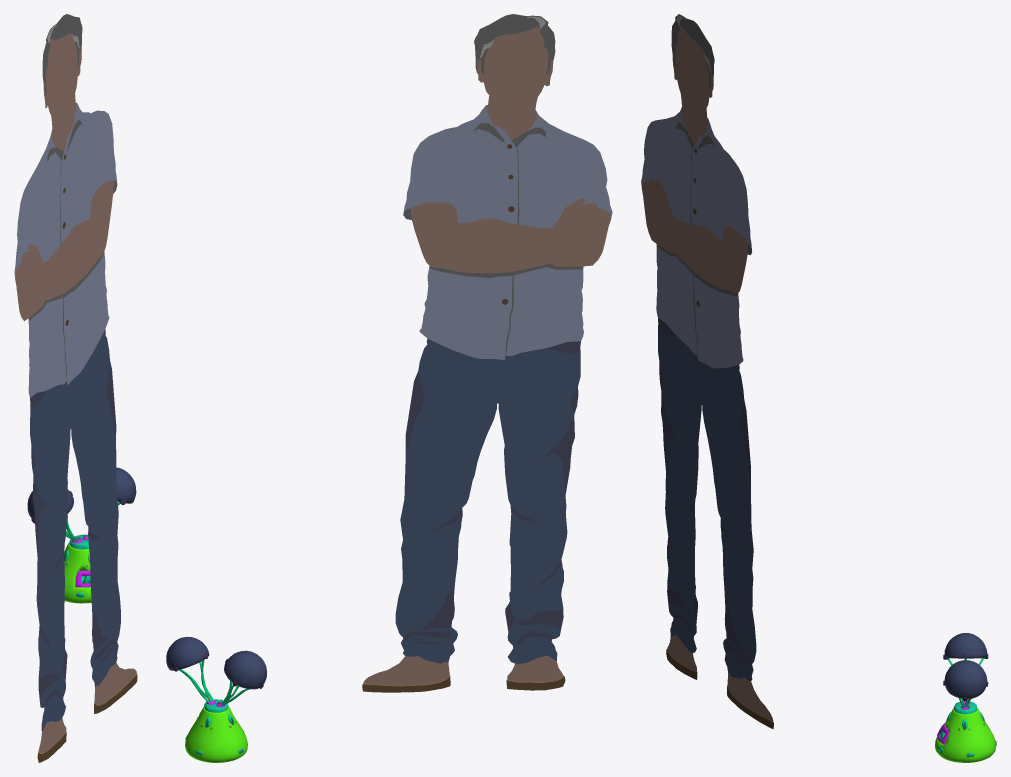
Rendered from Capsul.obj.
The picture shows the model from 3 angles, left to right: view 1: azimuth 30°, elevation 25°; view 2: azimuth 150°, elevation 25°; view 3: azimuth 270°, elevation 25°; orthographic projection. The views are drawn at different scales.
Visible parts, largest first — view 1: Mesh1 Niraj1 Model, Mesh117 mesh_0_1 Capsul_obj1 Model, Mesh139 mesh_0_1 Capsul_obj1 Model, Mesh140 mesh_0_1 Capsul_obj1 Model; view 2: Mesh1 Niraj1 Model, Mesh117 mesh_0_1 Capsul_obj1 Model, Mesh140 mesh_0_1 Capsul_obj1 Model, Mesh139 mesh_0_1 Capsul_obj1 Model; view 3: Mesh1 Niraj1 Model, Mesh117 mesh_0_1 Capsul_obj1 Model, Mesh139 mesh_0_1 Capsul_obj1 Model, Mesh140 mesh_0_1 Capsul_obj1 Model.
Boxes of the visible parts, box(x1,y1,x2,y2) form: Mesh1 Niraj1 Model: box(14, 14, 137, 762); Mesh117 mesh_0_1 Capsul_obj1 Model: box(64, 542, 91, 603); Mesh139 mesh_0_1 Capsul_obj1 Model: box(116, 467, 136, 503); Mesh140 mesh_0_1 Capsul_obj1 Model: box(27, 489, 73, 520); Mesh1 Niraj1 Model: box(362, 14, 612, 692); Mesh117 mesh_0_1 Capsul_obj1 Model: box(185, 706, 247, 762); Mesh140 mesh_0_1 Capsul_obj1 Model: box(224, 650, 266, 689); Mesh139 mesh_0_1 Capsul_obj1 Model: box(166, 636, 209, 670); Mesh1 Niraj1 Model: box(641, 14, 773, 729); Mesh117 mesh_0_1 Capsul_obj1 Model: box(935, 707, 995, 762); Mesh139 mesh_0_1 Capsul_obj1 Model: box(944, 660, 987, 699); Mesh140 mesh_0_1 Capsul_obj1 Model: box(944, 633, 987, 658).
Size of the model in its own units: 30.16 by 70.5 by 34.47.
